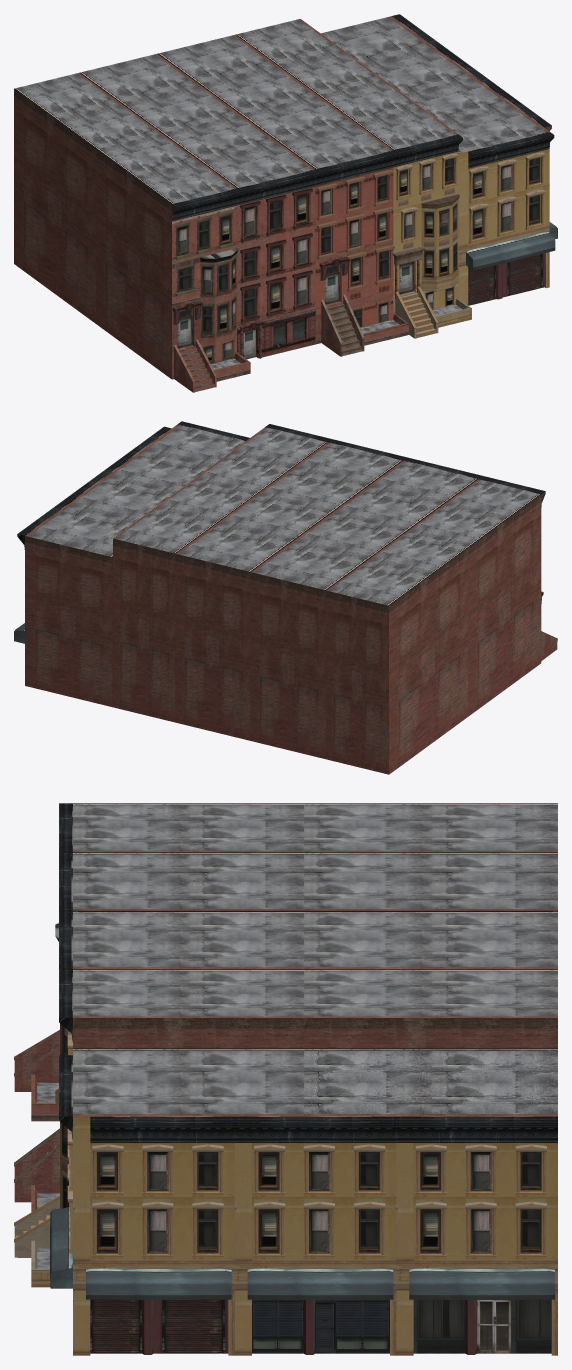
The model's file is Building1.glb.
3 renders of one model, top to bottom at view 1: azimuth 30°, elevation 25°; view 2: azimuth 150°, elevation 25°; view 3: azimuth 270°, elevation 25°, orthographic. The views are drawn at different scales.
Parts seen in each view (by area): view 1: Brownstone_ClassicComplex_2_Brownstone_Facade_Flr_2_0, Brownstone_ClassicComplex_2_Brownstone_Facade_Flr_5_0, Brownstone_ClassicComplex_2_Brownstone_Firstfloor_1_0; view 2: Brownstone_ClassicComplex_2_Brownstone_Facade_Flr_2_0; view 3: Brownstone_ClassicComplex_2_Brownstone_Facade_Flr_2_0, Brownstone_ClassicComplex_2_Brownstone_Facade_Flr_5_0, Brownstone_ClassicComplex_2_Brownstone_Firstfloor_1_0.
Part boxes in pixels (x1,y1,x2,y2): Brownstone_ClassicComplex_2_Brownstone_Facade_Flr_2_0: [14, 14, 554, 392]; Brownstone_ClassicComplex_2_Brownstone_Facade_Flr_5_0: [393, 149, 549, 338]; Brownstone_ClassicComplex_2_Brownstone_Firstfloor_1_0: [177, 222, 557, 359]; Brownstone_ClassicComplex_2_Brownstone_Facade_Flr_2_0: [17, 421, 557, 774]; Brownstone_ClassicComplex_2_Brownstone_Facade_Flr_2_0: [14, 803, 557, 1212]; Brownstone_ClassicComplex_2_Brownstone_Facade_Flr_5_0: [14, 1030, 557, 1355]; Brownstone_ClassicComplex_2_Brownstone_Firstfloor_1_0: [49, 1207, 554, 1354].
Size of the model in its own units: 30.01 by 12.86 by 23.56.
3 materials, 3 textured.
